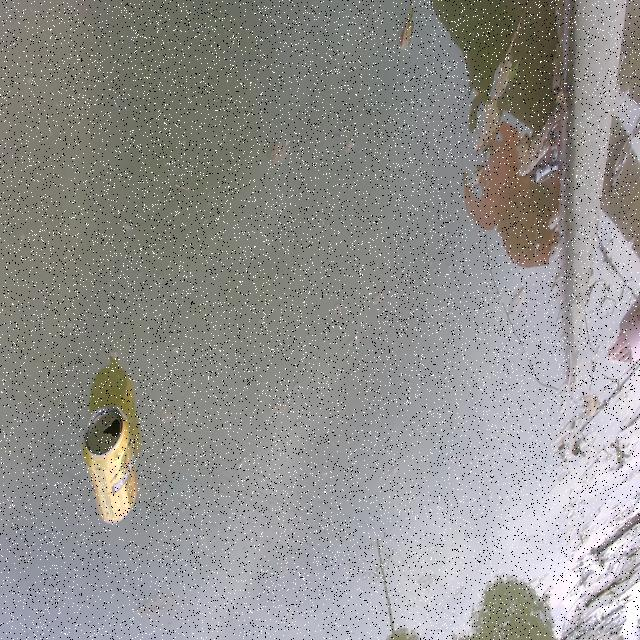Can: (80, 401, 140, 526)
